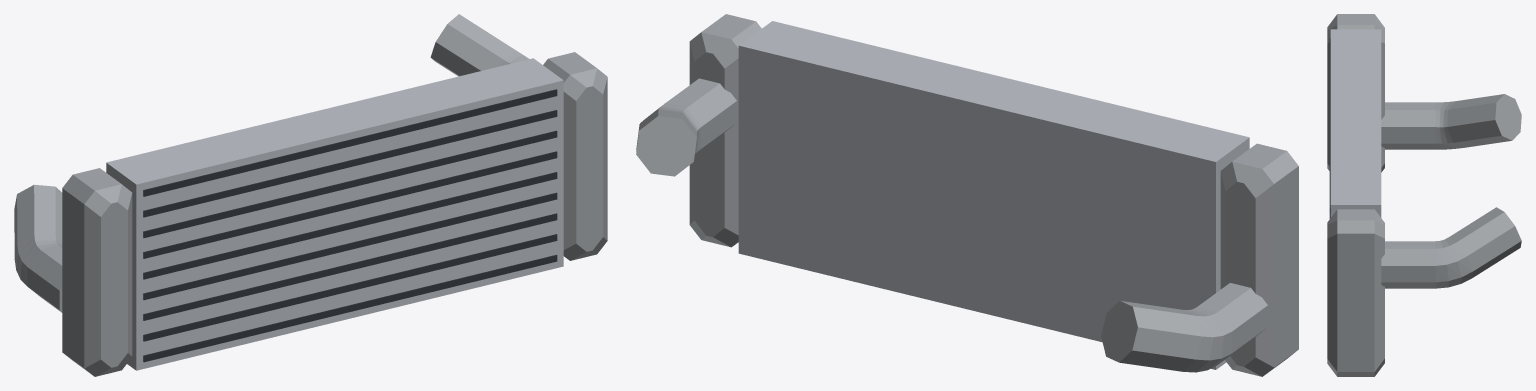
File: hana_roadster.glb
3 renders of one model, left to right at view 1: azimuth 30°, elevation 25°; view 2: azimuth 150°, elevation 25°; view 3: azimuth 270°, elevation 25°, orthographic. The views are drawn at different scales.
Visible parts, largest first — view 1: model; view 2: model; view 3: model.
Part boxes in pixels (x1=…): model: x1=14, y1=14, x2=607, y2=376; model: x1=636, y1=14, x2=1298, y2=376; model: x1=1327, y1=14, x2=1521, y2=376.
Bounding box in the file's own units: 0.6 × 0.204 × 0.2296.
2 materials, 1 textured.
